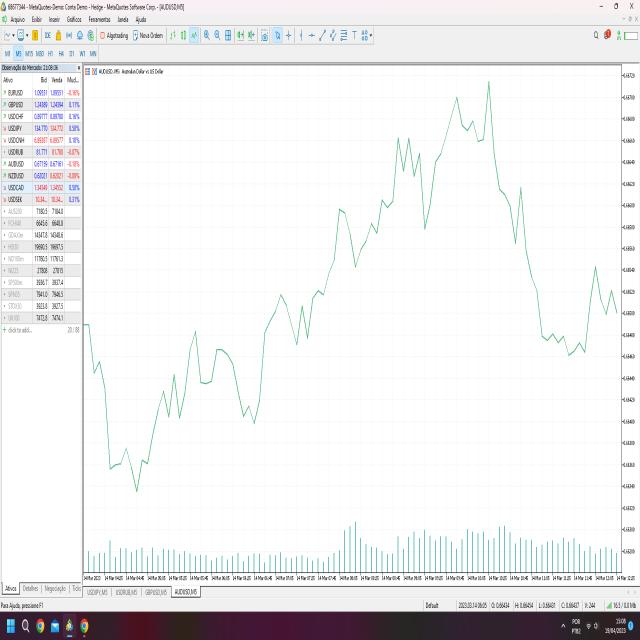fundo_duplo: (230, 362, 274, 444), (281, 281, 317, 356)
oco: (389, 122, 426, 209)
